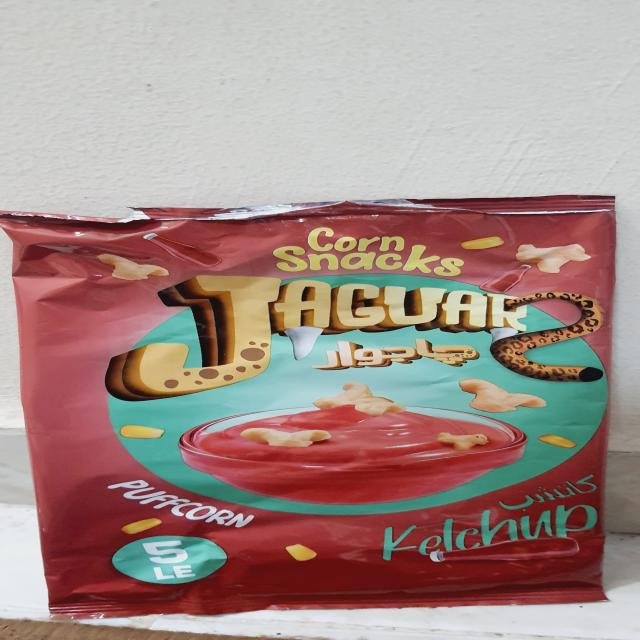Metal: (4, 195, 616, 619)
